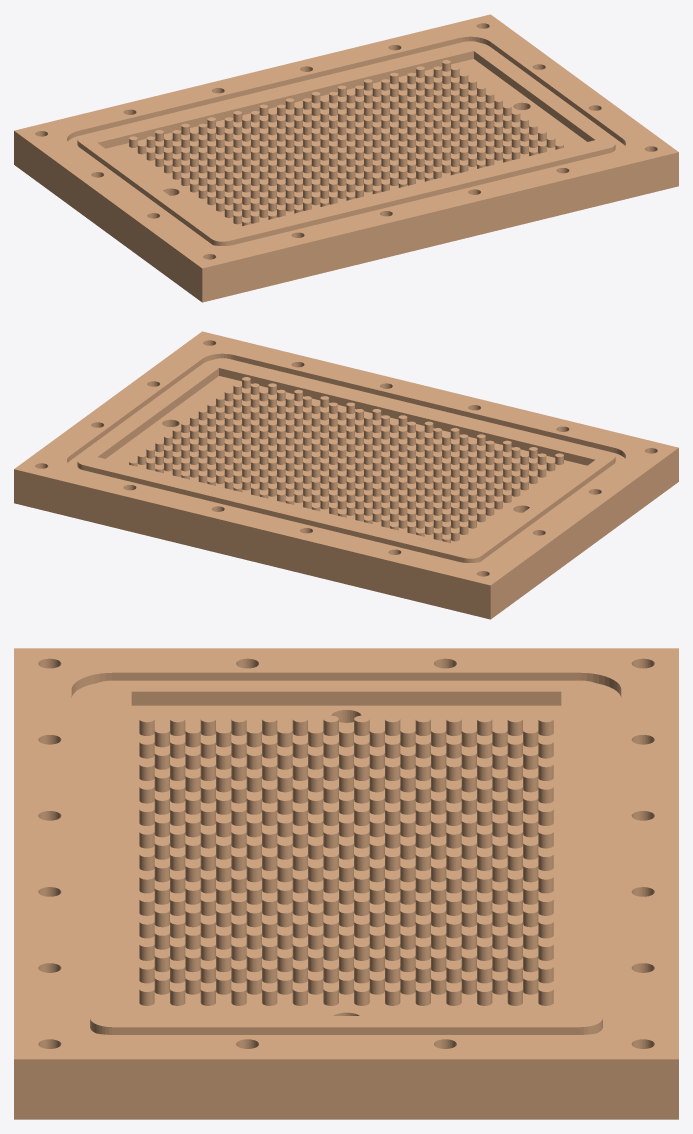
Rendered from ev-battery-cold-plate.glb.
3 renders of one model, top to bottom at view 1: azimuth 30°, elevation 25°; view 2: azimuth 150°, elevation 25°; view 3: azimuth 270°, elevation 25°, orthographic. The views are drawn at different scales.
Parts seen in each view (by area): view 1: ev-battery-cold-plate; view 2: ev-battery-cold-plate; view 3: ev-battery-cold-plate.
Part boxes in pixels (box(x1,y1,x2,y2)): ev-battery-cold-plate: box(14, 14, 678, 302); ev-battery-cold-plate: box(14, 331, 678, 619); ev-battery-cold-plate: box(14, 648, 678, 1119).
Size of the model in its own units: 0.19 by 0.013 by 0.13.
